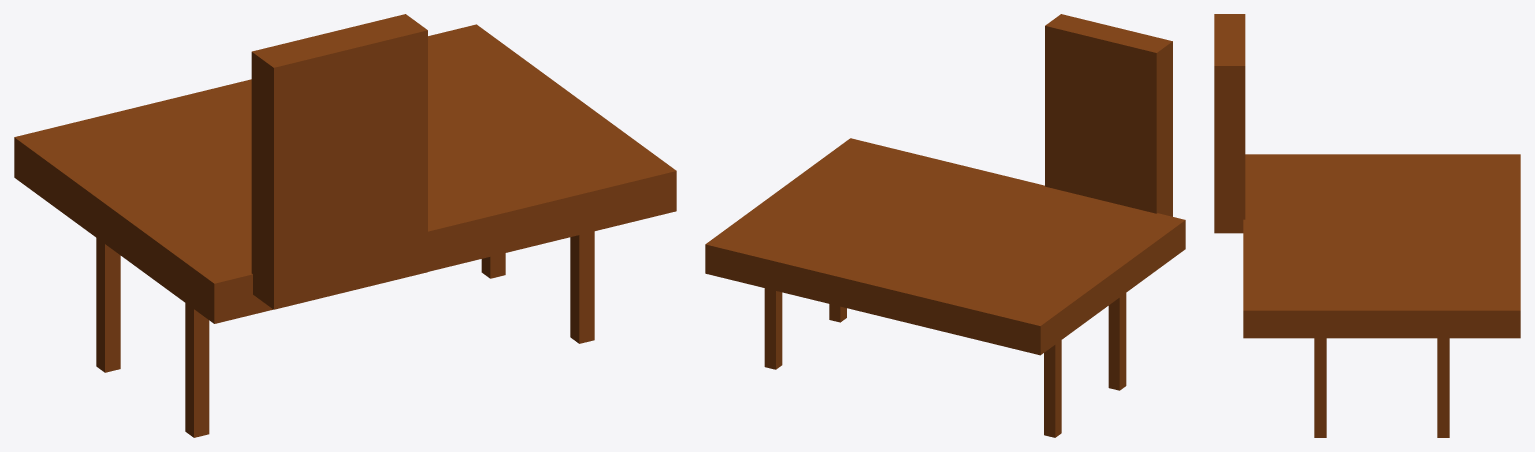
The model's file is chair.glb.
The picture shows the model from 3 angles, left to right: view 1: azimuth 30°, elevation 25°; view 2: azimuth 150°, elevation 25°; view 3: azimuth 270°, elevation 25°; orthographic projection. The views are drawn at different scales.
Visible parts, largest first — view 1: seat, backrest, leg1, leg3, leg4; view 2: seat, backrest, leg3, leg1, leg2; view 3: seat, backrest, leg2, leg4.
Boxes of the visible parts, box(x1,y1,x2,y2) form: seat: box(14, 24, 676, 323); backrest: box(251, 14, 427, 309); leg1: box(96, 238, 120, 372); leg3: box(185, 303, 209, 437); leg4: box(570, 231, 594, 343); seat: box(705, 138, 1185, 355); backrest: box(1045, 14, 1172, 216); leg3: box(1108, 293, 1126, 390); leg1: box(1044, 340, 1061, 437); leg2: box(764, 288, 782, 369); seat: box(1243, 154, 1520, 338); backrest: box(1214, 14, 1245, 233); leg2: box(1437, 338, 1449, 437); leg4: box(1314, 338, 1326, 437).
Bounding box in the file's own units: 0.6 × 0.522 × 0.497.
